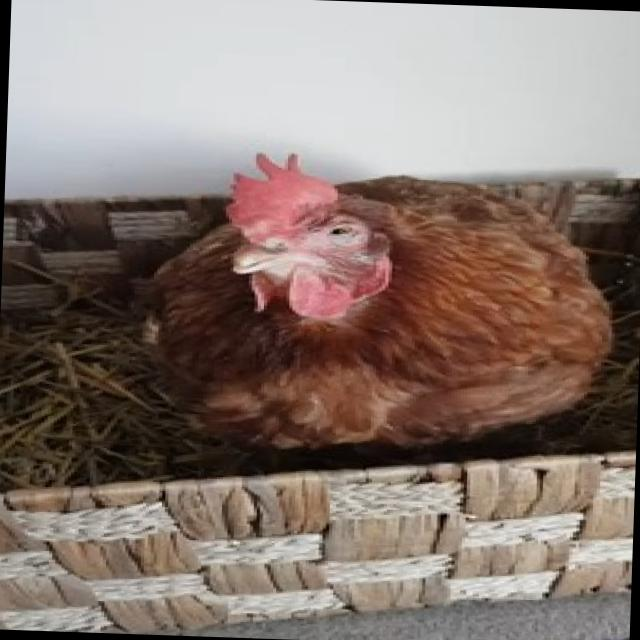Breathing: (138, 145, 623, 462)
